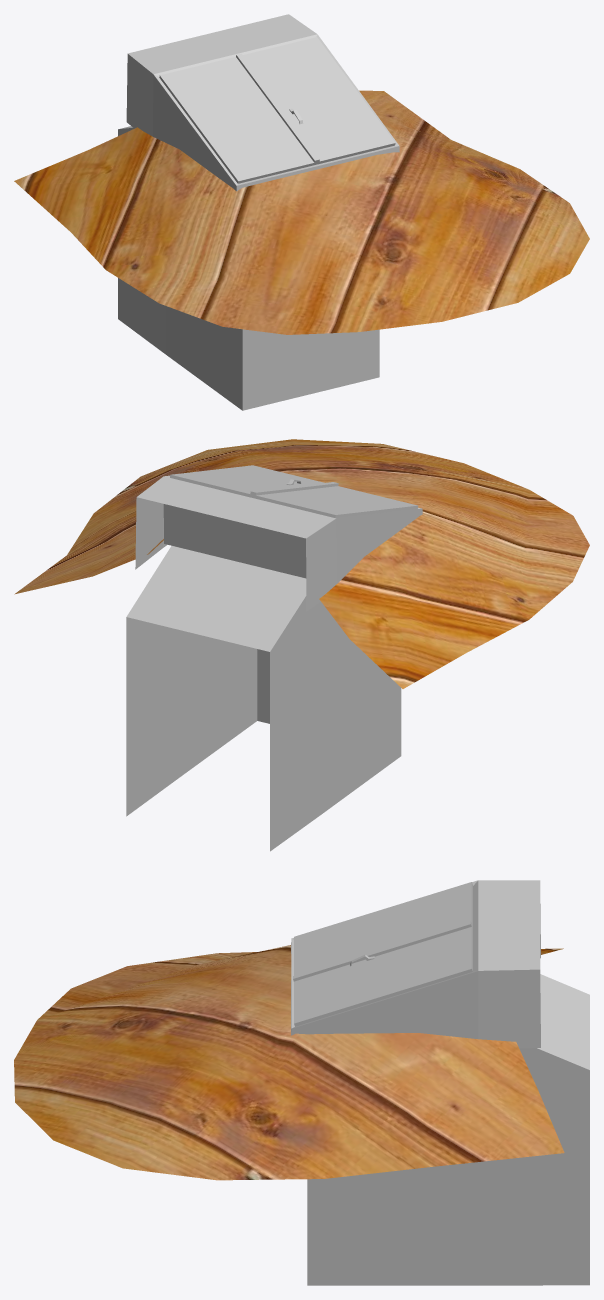
File: bulkheadTesting.fbx
The picture shows the model from 3 angles, top to bottom: view 1: azimuth 30°, elevation 25°; view 2: azimuth 150°, elevation 25°; view 3: azimuth 270°, elevation 25°; orthographic projection. The views are drawn at different scales.
Visible parts, largest first — view 1: SnowAroundBulkhead, Bulkhead, BulkheadDoor_R, BulkheadDoor_L; view 2: Bulkhead, SnowAroundBulkhead, BulkheadDoor_L, BulkheadDoor_R; view 3: SnowAroundBulkhead, Bulkhead, BulkheadDoor_R, BulkheadDoor_L.
Part boxes in pixels (x1,y1,x2,y2): SnowAroundBulkhead: [14, 90, 589, 334]; Bulkhead: [118, 14, 399, 410]; BulkheadDoor_R: [236, 37, 395, 164]; BulkheadDoor_L: [159, 57, 316, 183]; Bulkhead: [126, 475, 422, 851]; SnowAroundBulkhead: [14, 439, 589, 688]; BulkheadDoor_L: [252, 486, 418, 518]; BulkheadDoor_R: [170, 465, 338, 497]; SnowAroundBulkhead: [14, 945, 564, 1180]; Bulkhead: [291, 880, 589, 1285]; BulkheadDoor_R: [293, 921, 472, 1026]; BulkheadDoor_L: [294, 882, 472, 975].
Bounding box in the file's own units: 6.36 × 4.19 × 6.73.
